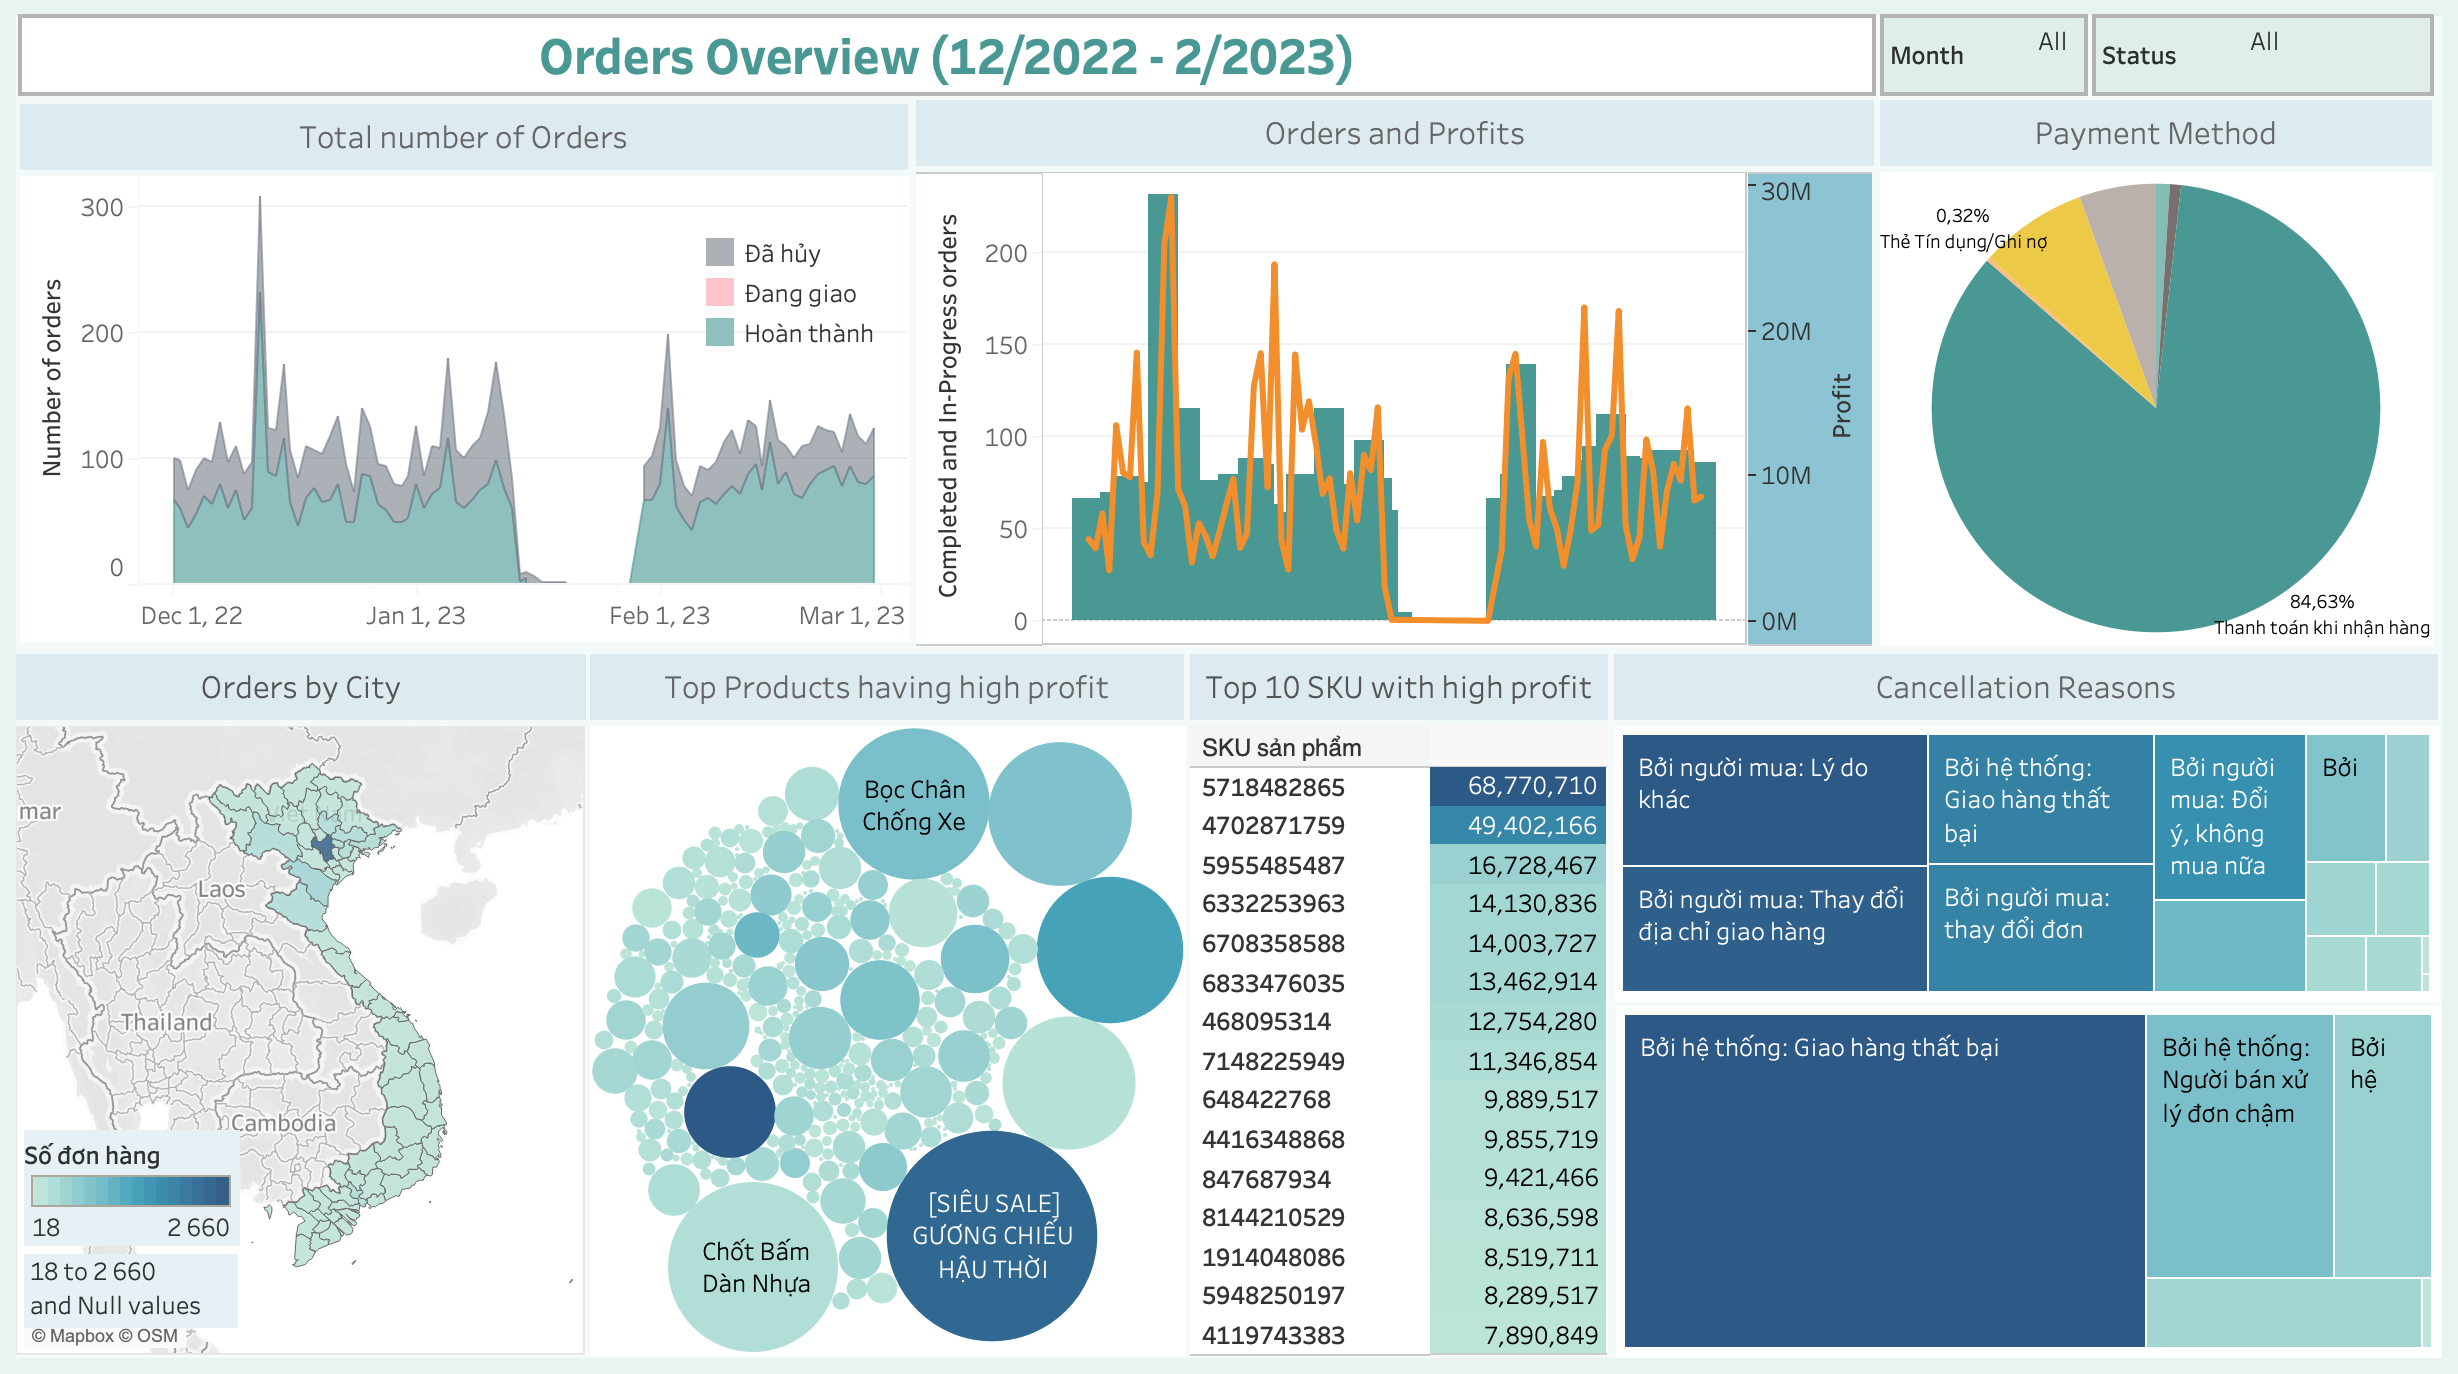

Layout of this report page (visuals, bound fields, positions):
{"tool":"tableau","page":{"name":"Dashboard 1","canvas":[1000,1000],"units":"permille","ordinal":0},"visuals":[{"type":"title","box":[7.3,10.2,755.9,60]},{"type":"filter","title":"Tong_don_hang","param":"[federated.19d7gga112pry114pn8cg09kfxvp].[mn:Ngày đặt hàng:ok]","box":[764.9,10.2,84.6,59.9]},{"type":"filter","title":"Tong_don_hang","param":"[federated.19d7gga112pry114pn8cg09kfxvp].[none:Trạng Thái Đơn Hàng:nk]","box":[851.1,10.2,139.1,59.9]},{"type":"dashboard-object","box":[874.7,11.5,18.9,34.6]},{"type":"worksheet","title":"Doanh_thu","mark":"Automatic","rows":["Mã đơn hàng (orders_overview1)","doanh_thu_thuc_te (orders_overview1)"],"cols":["Ngày đặt hàng (orders_overview1)"],"box":[372.7,73.1,389.8,397.7]},{"type":"worksheet","title":"payment","mark":"Pie","box":[764.9,73.1,224.6,396.2]},{"type":"worksheet","title":"Tong_don_hang","mark":"Area","rows":["Mã đơn hàng"],"cols":["Ngày đặt hàng"],"box":[8.5,76,361.4,391.8]},{"type":"legend","title":"Tong_don_hang","param":"[federated.19d7gga112pry114pn8cg09kfxvp].[none:Trạng Thái Đơn Hàng:nk]","box":[284.8,168.8,75.7,91.7]},{"type":"worksheet","title":"regions","mark":"Automatic","box":[6.5,476.6,231.9,510.2]},{"type":"worksheet","title":"top_sp","mark":"Circle","box":[240,476.6,241.7,510.2]},{"type":"worksheet","title":"SKU","mark":"Square","rows":["SKU sản phẩm"],"box":[484.1,476.6,170.1,510.2]},{"type":"worksheet","title":"Cancelled_1","mark":"Automatic","box":[656.6,476.6,335.2,252.9]},{"type":"worksheet","title":"Cancelled_2","mark":"Automatic","box":[657.5,732.5,335.2,255.8]},{"type":"legend","title":"regions","param":"[federated.19d7gga112pry114pn8cg09kfxvp].[ctd:Mã đơn hàng:qk]","box":[9.8,823.1,87.9,84.8]},{"type":"filter","title":"regions","param":"[federated.19d7gga112pry114pn8cg09kfxvp].[ctd:Mã đơn hàng:qk]","box":[9.8,912.3,87.1,54.1]}]}

Visuals, with their boxes on the dashboard's canvas, which has no fixed pixel size, in thousandths of its width and height (x1, y1, x2, y2). These are canvas units, not pixel positions in the 2458x1374 screenshot, which may show the page scaled, cropped or inside an application window:
title: bbox=[7, 10, 763, 70]
"Tong_don_hang" filter: bbox=[765, 10, 850, 70]
"Tong_don_hang" filter: bbox=[851, 10, 990, 70]
dashboard-object: bbox=[875, 12, 894, 46]
"Doanh_thu" worksheet: bbox=[373, 73, 762, 471]
"payment" worksheet (Pie marks): bbox=[765, 73, 990, 469]
"Tong_don_hang" worksheet (Area marks): bbox=[8, 76, 370, 468]
"Tong_don_hang" legend: bbox=[285, 169, 360, 260]
"regions" worksheet: bbox=[6, 477, 238, 987]
"top_sp" worksheet (Circle marks): bbox=[240, 477, 482, 987]
"SKU" worksheet (Square marks): bbox=[484, 477, 654, 987]
"Cancelled_1" worksheet: bbox=[657, 477, 992, 730]
"Cancelled_2" worksheet: bbox=[658, 732, 993, 988]
"regions" legend: bbox=[10, 823, 98, 908]
"regions" filter: bbox=[10, 912, 97, 966]
